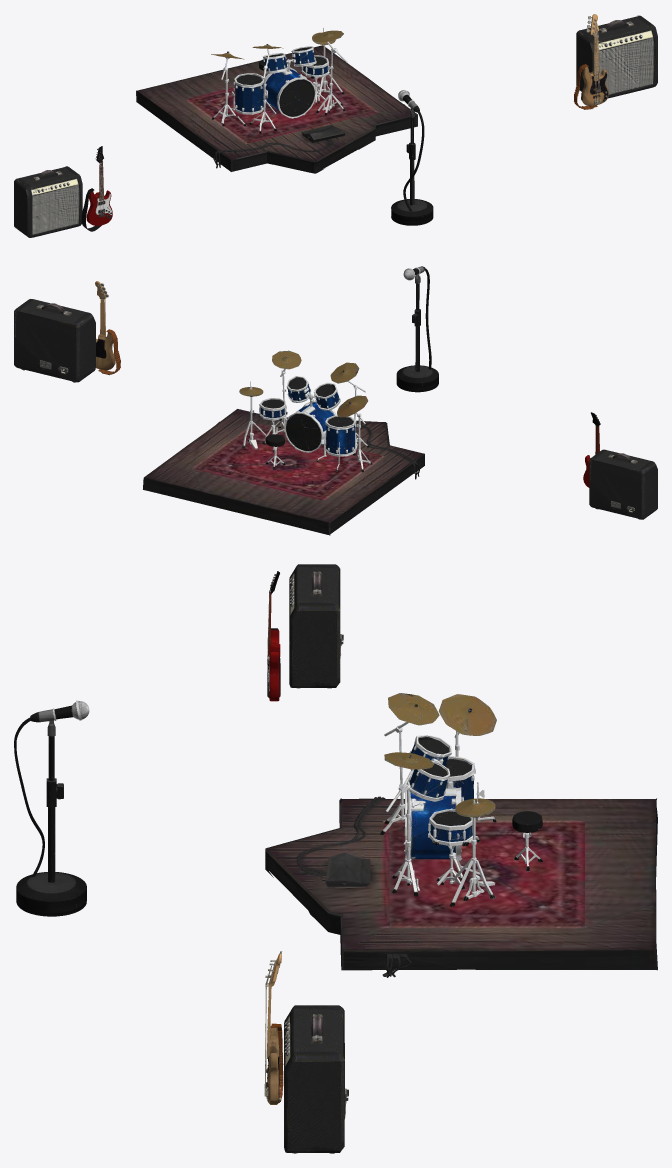
Rendered from stage-BdQPws-A.glb.
3 renders of one model, top to bottom at view 1: azimuth 30°, elevation 25°; view 2: azimuth 150°, elevation 25°; view 3: azimuth 270°, elevation 25°, orthographic. The views are drawn at different scales.
Parts seen in each view (by area): view 1: prop-riser, prop-drums, prop-amp-bass, prop-amp-guitar, prop-mic, rest-bass, rest-guitar; view 2: prop-riser, prop-drums, prop-amp-bass, prop-amp-guitar, prop-mic, rest-bass; view 3: prop-riser, prop-drums, prop-amp-bass, prop-amp-guitar, prop-mic, rest-bass, rest-guitar.
Boxes of the visible parts, x1,y1,x2,y2 form: prop-riser: (136,45,417,173); prop-drums: (211,27,347,133); prop-amp-bass: (576,15,657,98); prop-amp-guitar: (14,166,82,237); prop-mic: (391,90,433,225); rest-bass: (574,14,608,109); rest-guitar: (81,146,112,231); prop-riser: (143,409,424,535); prop-drums: (239,350,372,472); prop-amp-bass: (14,299,95,382); prop-amp-guitar: (589,449,657,519); prop-mic: (396,266,438,392); rest-bass: (95,281,120,375); prop-riser: (265,796,657,977); prop-drums: (380,693,543,906); prop-amp-bass: (284,1005,348,1153); prop-amp-guitar: (289,564,343,688); prop-mic: (14,700,89,916); rest-bass: (264,951,283,1104); rest-guitar: (267,571,280,701).
Size of the model in its own units: 7.08 by 1.29 by 3.77.
7 materials, 7 textured.
